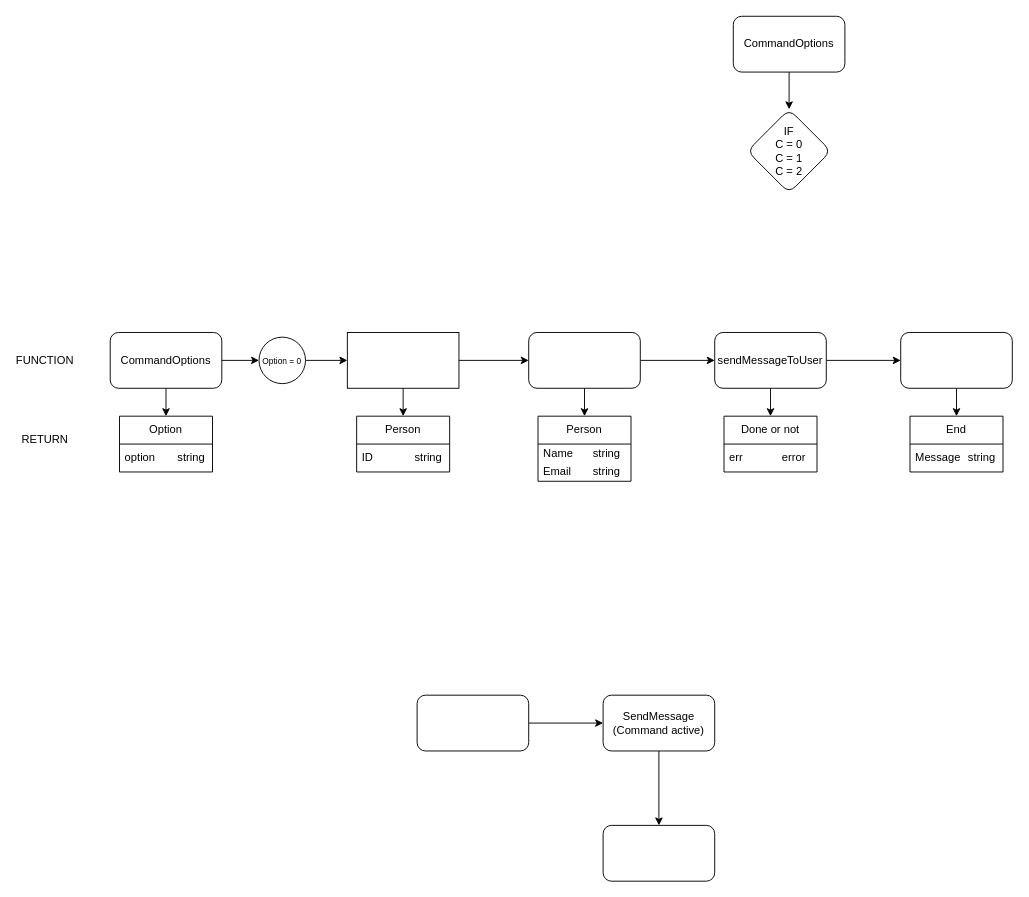
This 1029x897 diagram has some shape labels left out. The shapes that lost their labels are listed below. From the top down, each one's centre as x and y in pixels, then its label:
At [402,360]: "Message to User @fulano".
At [584,360]: "config".
At [956,360]: "NotificationProcess".
At [472,722]: "Config to get variables".
At [658,852]: "getUserInfo to get id, name and email".
